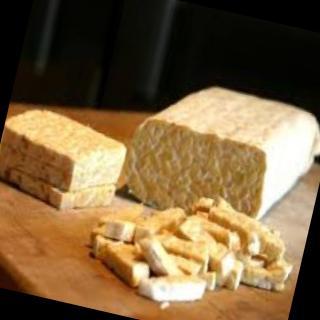Tempe: (115, 66, 320, 247), (1, 100, 133, 222)
